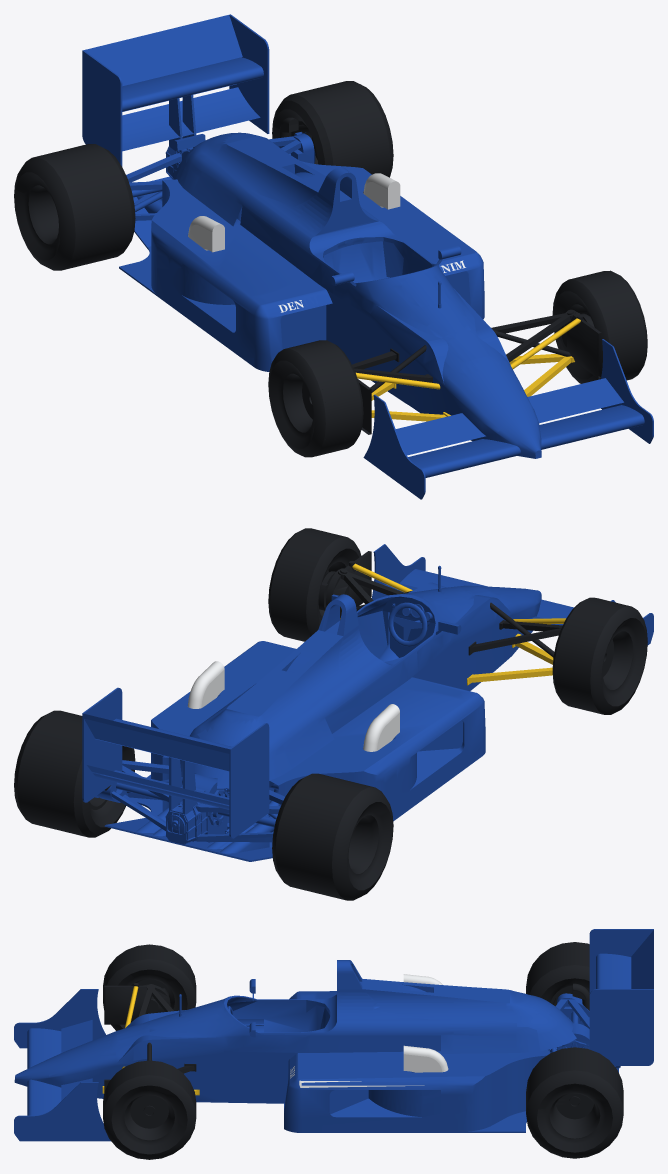
Rendered from f1-williams-fw14b.glb.
3 views of the same model, one above another, from view 1: azimuth 30°, elevation 25°; view 2: azimuth 150°, elevation 25°; view 3: azimuth 270°, elevation 25° (orthographic). The views are drawn at different scales.
Parts seen in each view (by area): view 1: body_0058, body_0007, body_0062, wheels_0000, body_0012, wheels_0034, wheels_0026, wheels_0025, wheels_0024, wheels_0013, body_0008, wheels_0019 (+4 smaller); view 2: body_0058, body_0007, wheels_0000, body_0062, wheels_0034, body_0012, wheels_0026, wheels_0025, wheels_0024, wheels_0013, wheels_0019, wheels_0065 (+6 smaller); view 3: body_0058, body_0007, wheels_0034, body_0062, wheels_0026, wheels_0024, wheels_0000, body_0008, wheels_0019, body_0012, body_0069, body_0059.
Part boxes in pixels (<box>): body_0058: <box>119,167,653,499</box>; body_0007: <box>151,132,484,318</box>; body_0062: <box>82,14,269,166</box>; wheels_0000: <box>14,144,135,270</box>; body_0012: <box>122,87,315,220</box>; wheels_0034: <box>280,81,393,177</box>; wheels_0026: <box>552,270,647,383</box>; wheels_0025: <box>268,348,327,457</box>; wheels_0024: <box>286,340,363,456</box>; wheels_0013: <box>491,310,601,378</box>; body_0008: <box>323,241,435,286</box>; wheels_0019: <box>352,345,432,434</box>; body_0058: <box>104,544,653,861</box>; body_0007: <box>151,621,433,819</box>; wheels_0000: <box>272,773,393,900</box>; body_0062: <box>82,687,269,838</box>; wheels_0034: <box>14,710,101,837</box>; body_0012: <box>93,757,284,844</box>; wheels_0026: <box>268,528,361,641</box>; wheels_0025: <box>588,606,647,714</box>; wheels_0024: <box>552,597,629,714</box>; wheels_0013: <box>318,551,412,618</box>; wheels_0019: <box>468,602,562,657</box>; wheels_0065: <box>82,746,135,834</box>; body_0058: <box>14,960,618,1141</box>; body_0007: <box>259,978,576,1132</box>; wheels_0034: <box>526,1047,623,1158</box>; body_0062: <box>589,929,653,1065</box>; wheels_0026: <box>103,1060,196,1159</box>; wheels_0024: <box>103,945,196,1030</box>; wheels_0000: <box>526,942,589,1006</box>; body_0008: <box>228,979,329,1032</box>; wheels_0019: <box>104,983,173,1024</box>; body_0012: <box>542,993,620,1068</box>; body_0069: <box>403,1045,448,1072</box>; body_0059: <box>299,1080,424,1087</box>.
Bounding box in the file's own units: 2.23 × 1.04 × 4.44.
